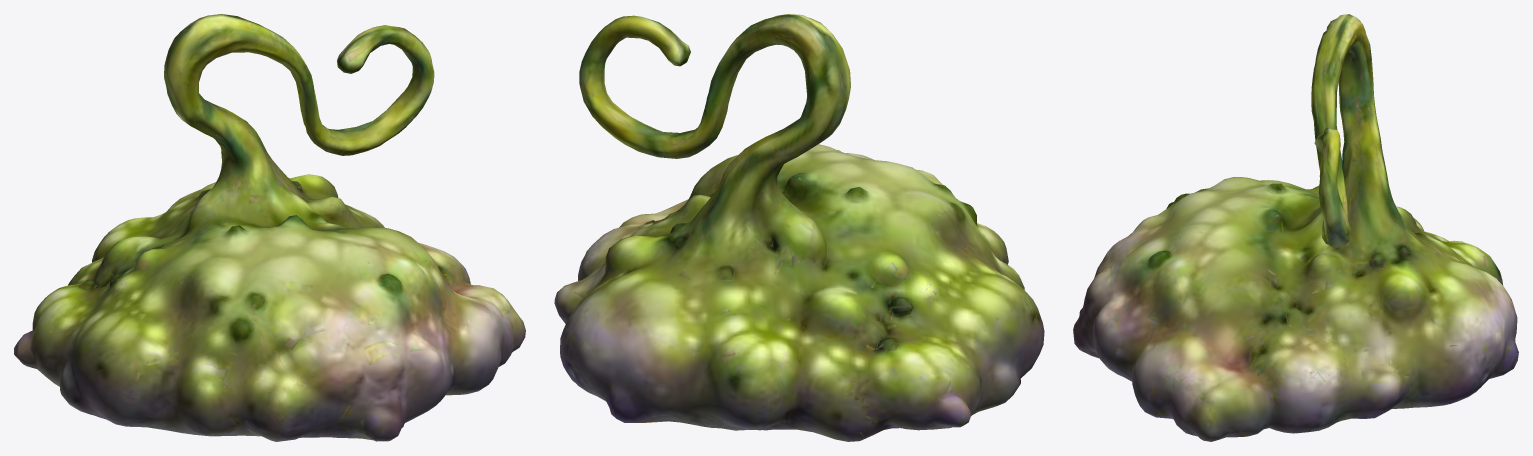
Rendered from Verdurous Ooze_final.glb.
3 views of the same model, side by side, from view 1: azimuth 30°, elevation 25°; view 2: azimuth 150°, elevation 25°; view 3: azimuth 270°, elevation 25° (orthographic). The views are drawn at different scales.
Parts seen in each view (by area): view 1: Mesh1.0; view 2: Mesh1.0; view 3: Mesh1.0.
Boxes of the visible parts, x1,y1,x2,y2 form: Mesh1.0: (14,14,525,441); Mesh1.0: (554,14,1044,441); Mesh1.0: (1073,14,1518,441).
Bounding box in the file's own units: 1.88 × 1.49 × 1.84.
1 material, 1 textured.
